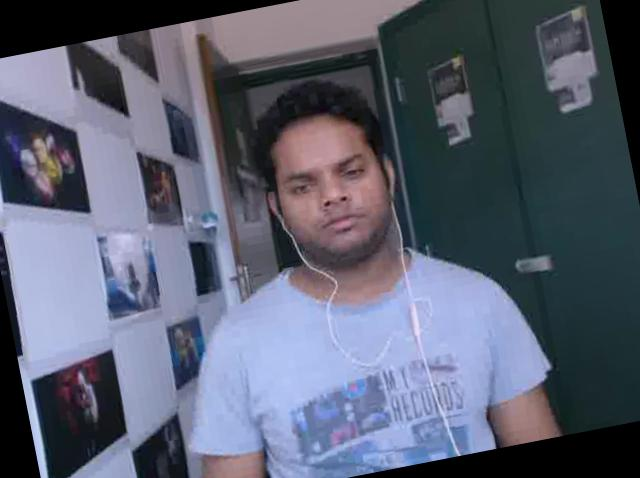bosan: (266, 116, 389, 261)
